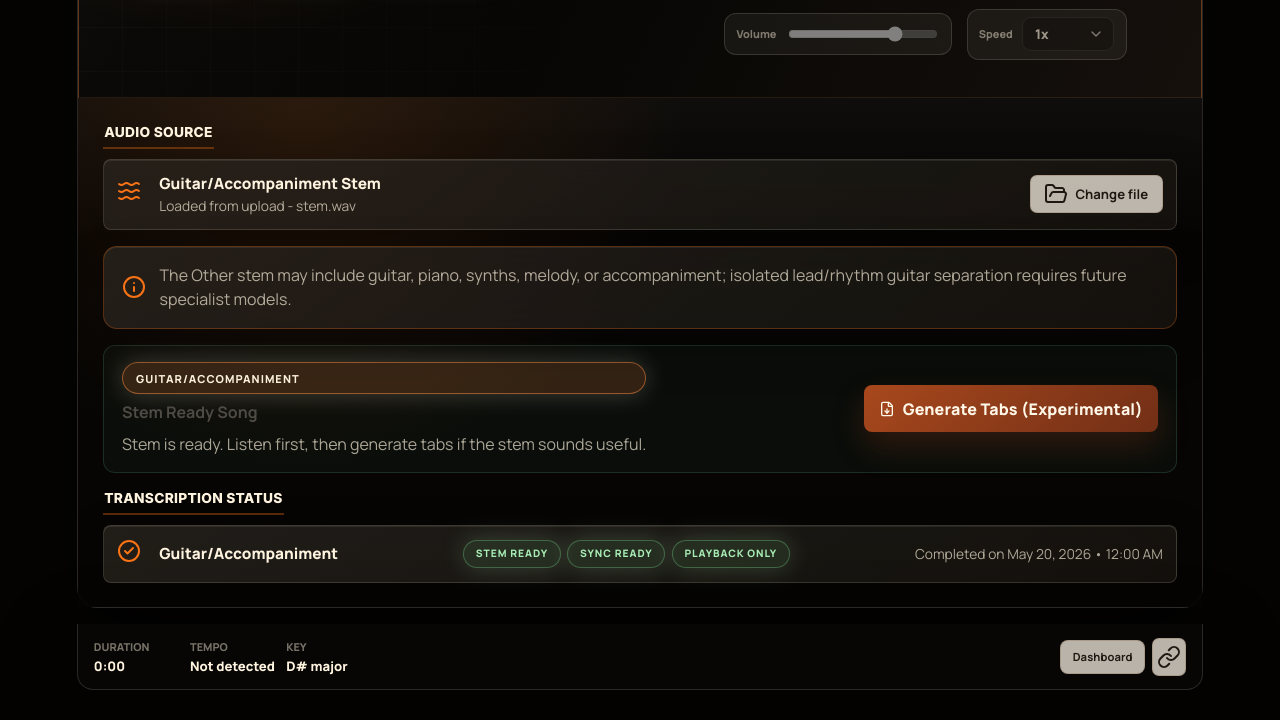
Test: TranscriptionViewer generate tabs polling › keeps generating UI when polling returns stale stem_ready
(page scrolled)
Click the button "Generate Tabs (Experimental)": (1011, 409) [864, 385, 1158, 432]
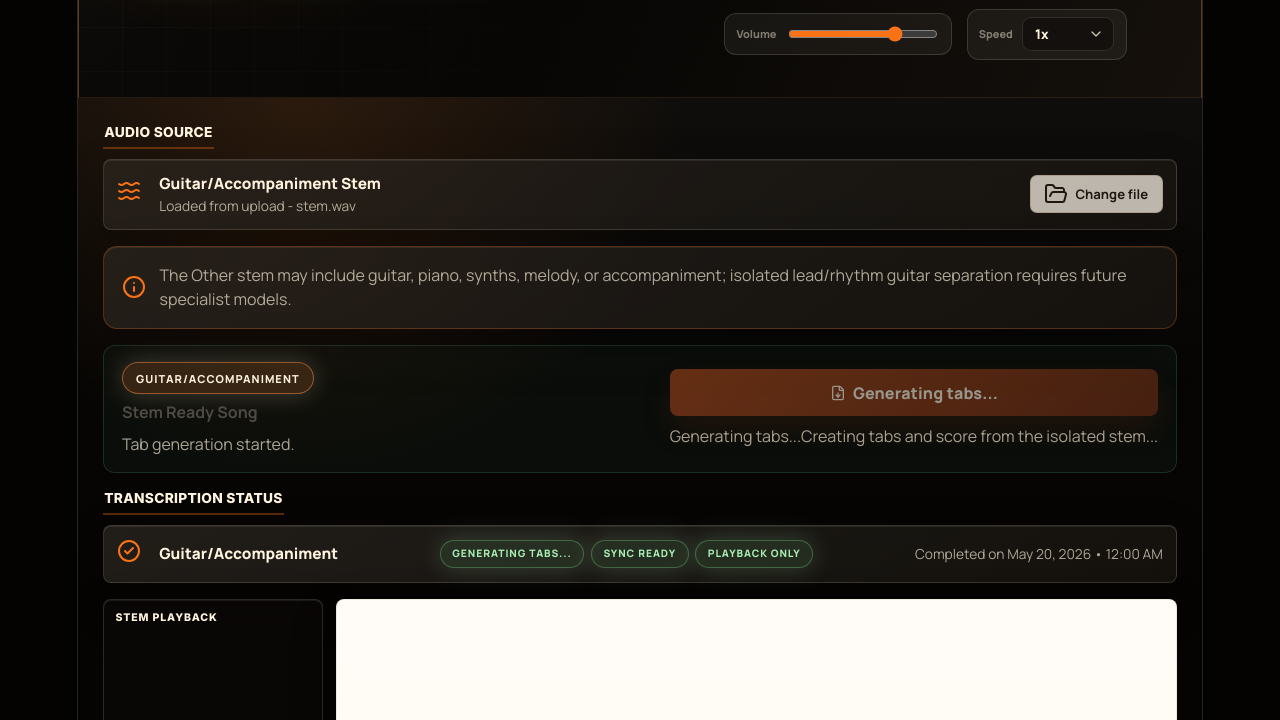
Expected: the button "Generating tabs..." is disabled, [670, 369, 1158, 416]
Expected: the text "Stem is ready. Listen first, then generate tabs if the stem sounds useful." is gone
